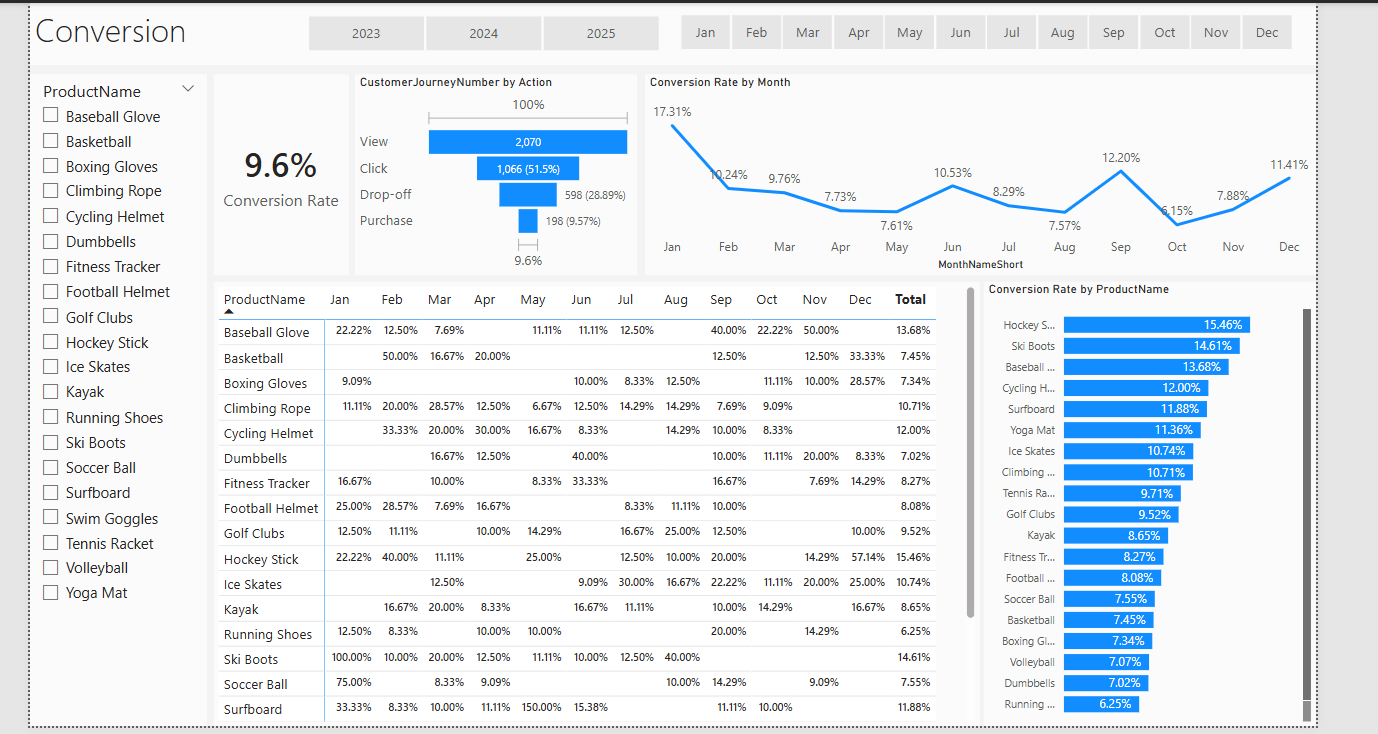

The dashboard page shown, as its layout file describes it:
{"tool":"powerbi","page":{"name":"Conversion Details","canvas":[1280,720],"ordinal":1},"visuals":[{"type":"textbox","box":[0,0,1280,61.2],"z":0},{"type":"slicer","fields":{"Values":["Calendar.Year"]},"box":[251.2,6.2,398.8,47.5],"z":1000},{"type":"slicer","fields":{"Values":["Calendar.MonthNameShort"]},"box":[622.5,5,657.5,47.5],"z":2000},{"type":"slicer","fields":{"Values":["dim_products.ProductName"]},"box":[0,71.2,176.2,648.8],"z":3000},{"type":"card","fields":{"Values":["Calculations.ConversionRate"]},"box":[182.9,70.9,134.3,200.3],"z":4000},{"type":"lineChart","title":"Conversion Rate by Month","fields":{"Y":["Calculations.Conversion Rate"],"Category":["Calendar.MonthNameShort"]},"box":[611.4,71.4,668.6,200],"z":5000},{"type":"pivotTable","fields":{"Rows":["dim_products.ProductName"],"Values":["Calculations.Conversion Rate"],"Columns":["Calendar.MonthNameShort"]},"box":[182.9,277.4,762.5,442.8],"z":6000},{"type":"clusteredBarChart","fields":{"Y":["Calculations.Conversion Rate"],"Category":["dim_products.ProductName"]},"box":[949.1,277.4,330.9,442.8],"z":7000},{"type":"funnel","fields":{"Y":["Calculations.CustomerJourneyNumber"],"Category":["fact_customer_journey.Action"]},"box":[323.4,70.9,281.1,200.3],"z":8000}]}

Visuals, with their boxes on the page's 1280x720 design canvas (x1, y1, x2, y2). These are canvas units, not pixel positions in the 1378x734 screenshot, which may show the page scaled, cropped or inside an application window:
textbox: <bbox>0, 0, 1280, 61</bbox>
slicer - Calendar.Year: <bbox>251, 6, 650, 54</bbox>
slicer - Calendar.MonthNameShort: <bbox>622, 5, 1280, 52</bbox>
slicer - dim_products.ProductName: <bbox>0, 71, 176, 720</bbox>
card - Calculations.ConversionRate: <bbox>183, 71, 317, 271</bbox>
"Conversion Rate by Month" lineChart: <bbox>611, 71, 1280, 271</bbox>
pivotTable - dim_products.ProductName x Calculations.Conversion Rate: <bbox>183, 277, 945, 720</bbox>
clusteredBarChart - Calculations.Conversion Rate x dim_products.ProductName: <bbox>949, 277, 1280, 720</bbox>
funnel - Calculations.CustomerJourneyNumber x fact_customer_journey.Action: <bbox>323, 71, 604, 271</bbox>
